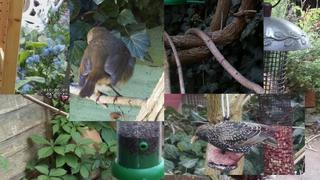robin: (77, 27, 138, 106)
starling: (191, 120, 278, 154)
